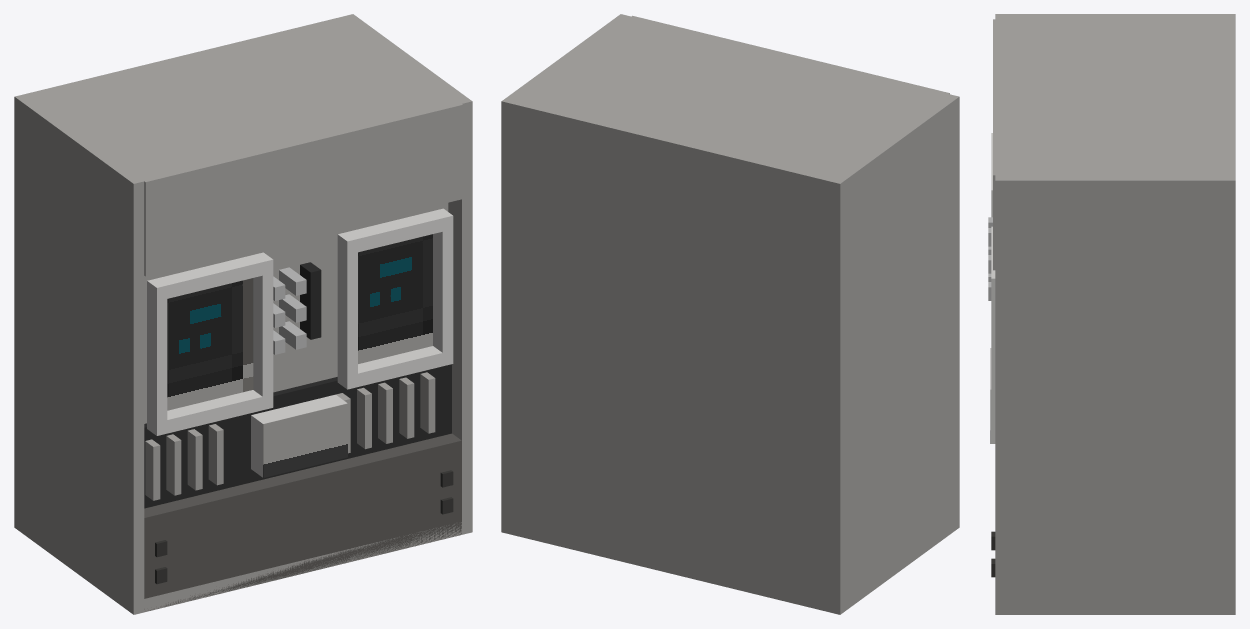
File: CMU3DRMCWhiteSensorComputer3InheritedMiscCloud.glb
The picture shows the model from 3 angles, left to right: view 1: azimuth 30°, elevation 25°; view 2: azimuth 150°, elevation 25°; view 3: azimuth 270°, elevation 25°; orthographic projection.
Parts seen in each view (by area): view 1: full-depth left casing, full-width raised upper hood, roof, bottom closed service casing, recessed lower ventilation backing, left scanner CRT recessed glass source detail, right scanner CRT recessed glass source detail, full-depth right casing, instrument bank rear plate, lower raised label source detail, base, left scanner CRT stepped bezel top (+18 smaller); view 2: rear cabinet wall, full-depth left casing, roof, full-depth right casing, full-width raised upper hood; view 3: full-depth right casing, roof, full-width raised upper hood, rear cabinet wall, full-depth left casing, right scanner CRT stepped bezel right.
Boxes of the visible parts, x1,y1,x2,y2 form: full-depth left casing: (14,94,144,614); full-width raised upper hood: (117,84,462,276); roof: (32,21,460,181); bottom closed service casing: (144,433,461,610); recessed lower ventilation backing: (144,364,451,508); left scanner CRT recessed glass source detail: (167,278,253,410); right scanner CRT recessed glass source detail: (358,234,432,363); full-depth right casing: (343,14,472,534); instrument bank rear plate: (144,203,448,423); lower raised label source detail: (263,403,347,477); base: (144,522,461,611); left scanner CRT stepped bezel top: (147,252,273,301); rear cabinet wall: (512,99,835,612); full-depth left casing: (829,94,959,614); roof: (519,16,948,177); full-depth right casing: (501,14,630,534); full-width raised upper hood: (604,15,949,112); full-depth right casing: (995,175,1235,614); roof: (995,19,1225,175); full-width raised upper hood: (993,19,1050,270); rear cabinet wall: (1222,19,1235,175); full-depth left casing: (995,14,1235,19); right scanner CRT stepped bezel right: (991,292,995,414).
Bounding box in the file's own units: 1 × 1.22 × 0.628.
Materials: 10 (3 with a texture image).
